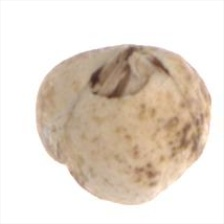L3: (89, 47, 168, 96)
L4: (36, 44, 212, 205)
